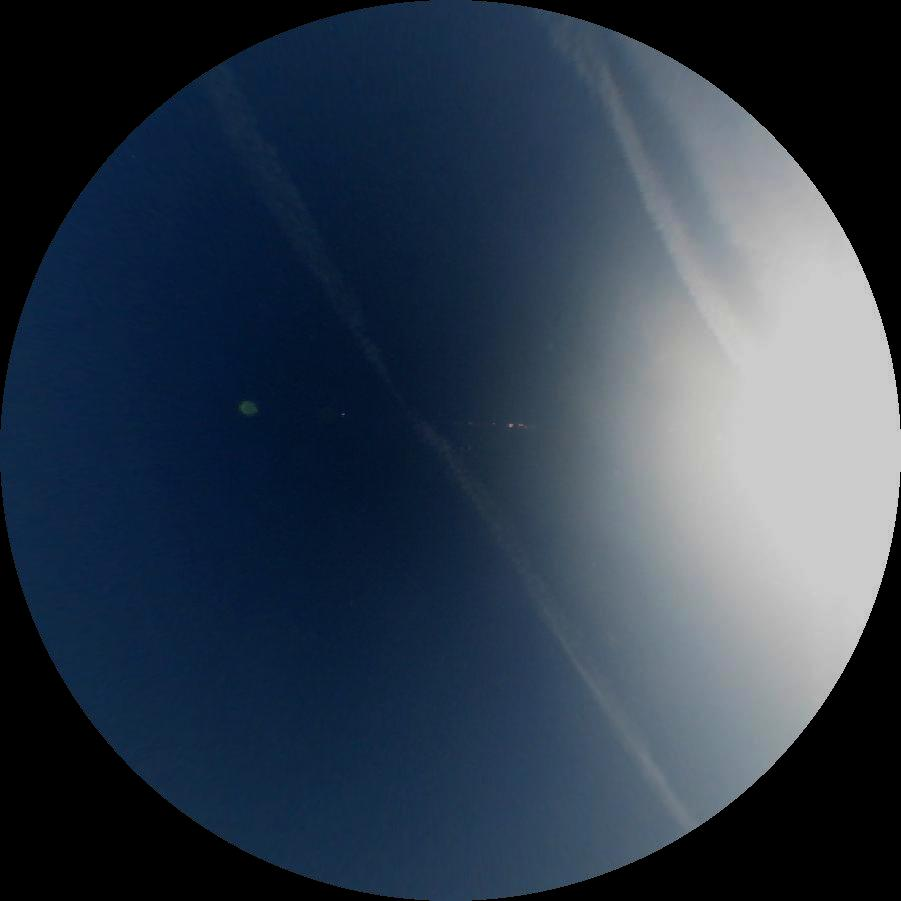contrail veryold: (193, 62, 700, 846)
